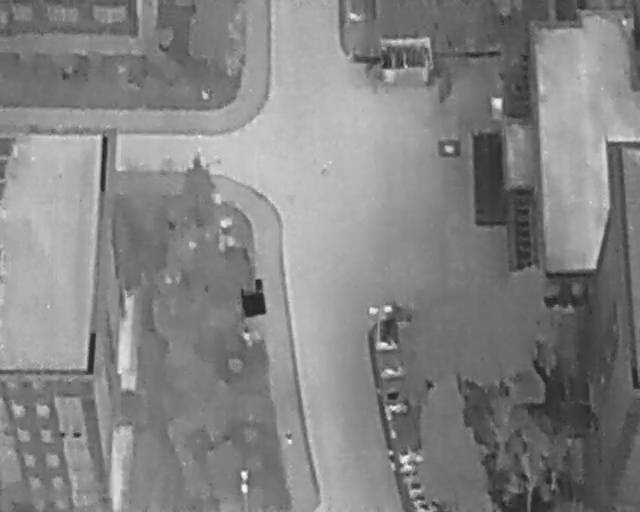Bicycle: (373, 337, 398, 351), (382, 366, 406, 378)
Person: (287, 430, 293, 445)
